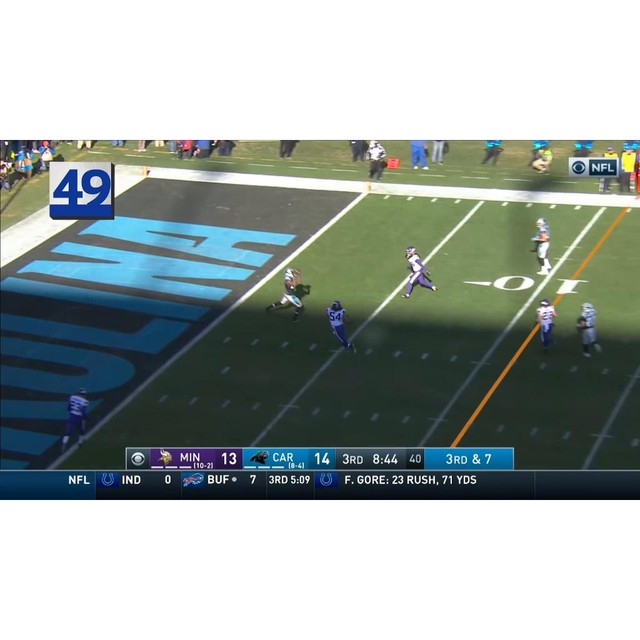american-football-player: (266, 268, 309, 323), (59, 386, 92, 452), (402, 246, 437, 299), (575, 301, 604, 358), (324, 300, 356, 351), (529, 217, 554, 274), (533, 298, 559, 350)
referee: (365, 140, 387, 182)
